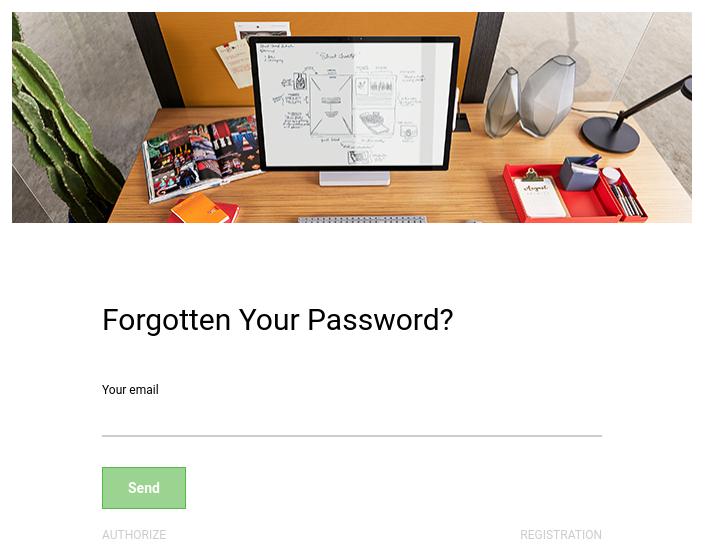
Test: ForgetForm › btn Send › not disabled after the error disappears
This screenshot has width=709, height=556.
Type "loki99928@yandex.ru" into the field with test id "input_email" at (352, 418), box [102,399,602,438]
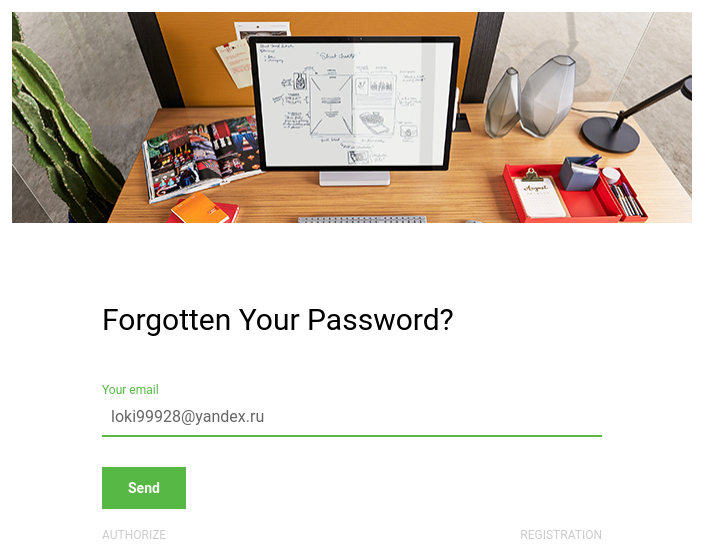
Expected: the button "Send" is enabled, [102,468,186,510]
